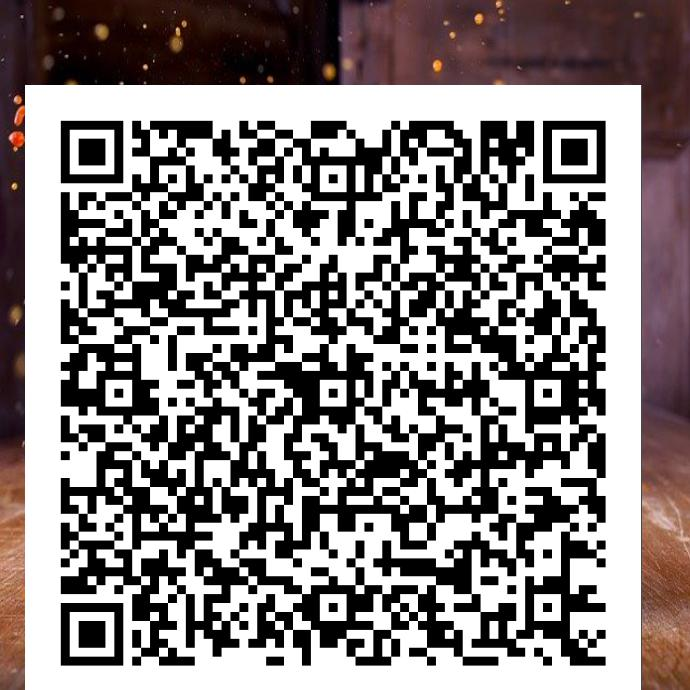qr_code: (25, 79, 641, 690)
